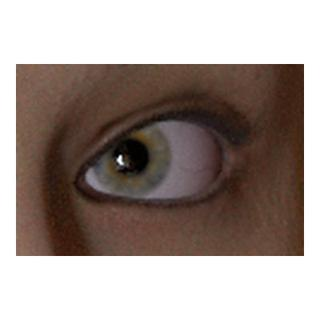pupil: (113, 139, 148, 174)
